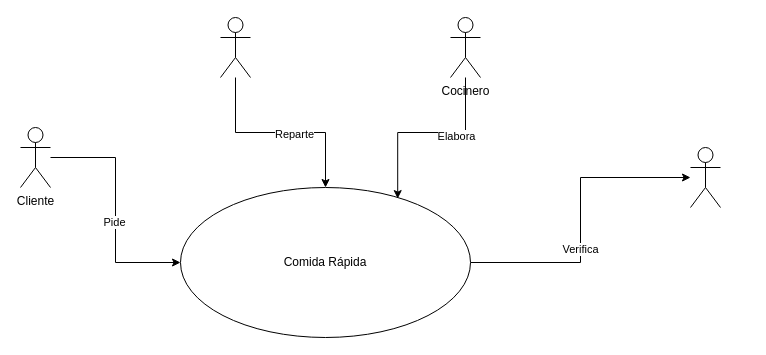
Some shapes in this 766 by 355 pixel diagram are drawn without their labels. The shapes that lost their labels are listed below. From the top down, each one's centre as x and y in pixels, then its label:
point 235,47: Repartidor
point 705,177: Medios de Pago
